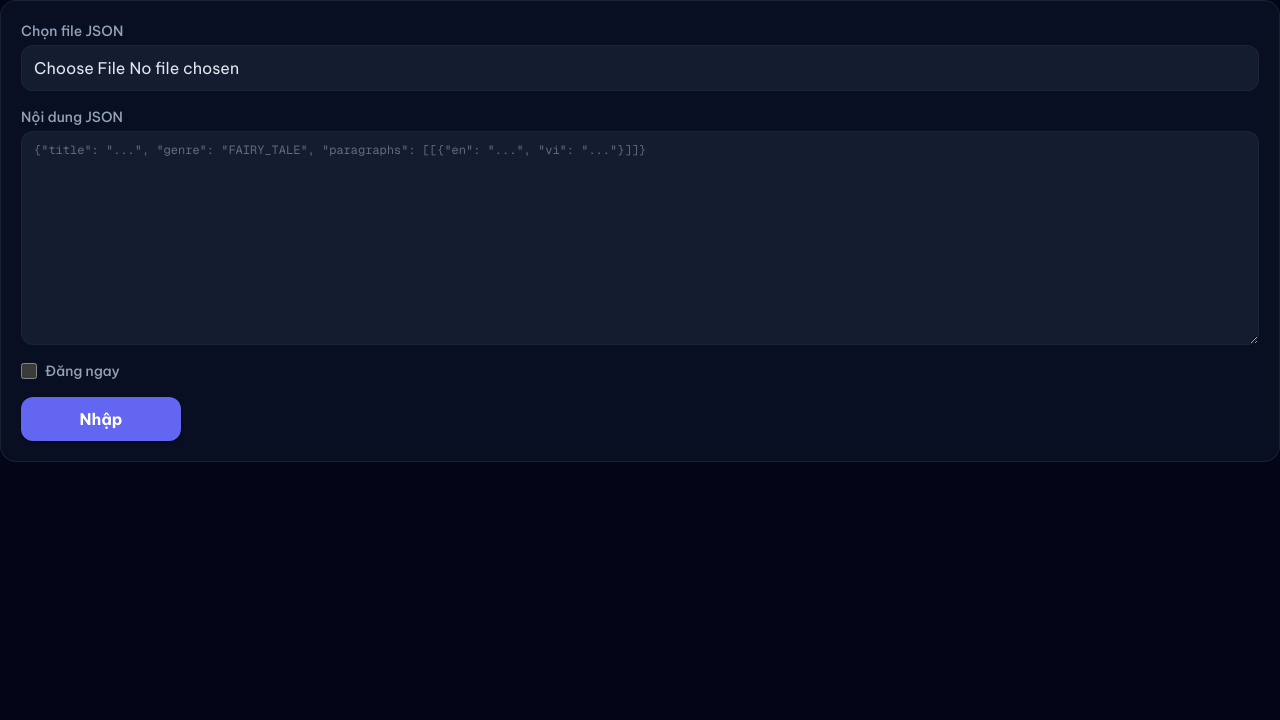
ReadingImportForm › liệt kê từng lỗi trả về từ action
The width and height of the screenshot is (1280, 720).
Click the button "Nhập": (101, 419) [21,397,181,441]
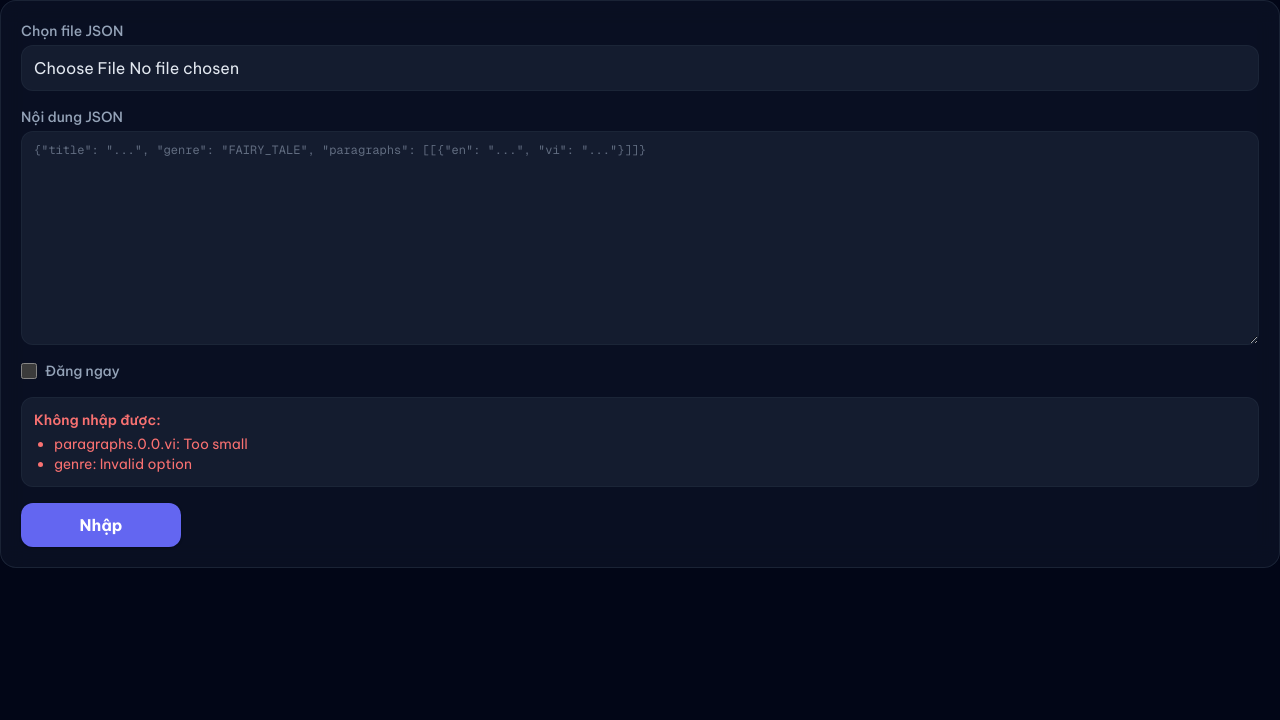
Expected: the list item "paragraphs.0.0.vi: Too small" is shown, [54,435,248,453]
Expected: the list item "genre: Invalid option" is shown, [54,455,192,473]
